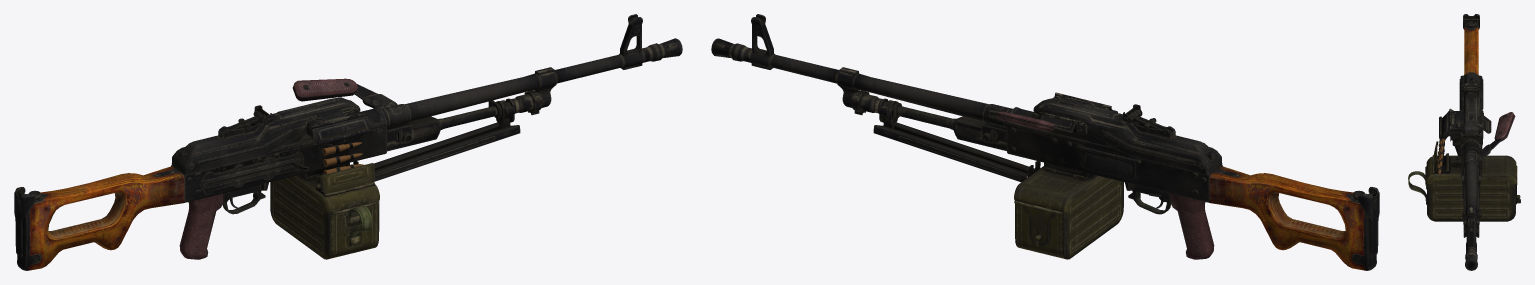
3 views of the same model, side by side, from view 1: azimuth 30°, elevation 25°; view 2: azimuth 150°, elevation 25°; view 3: azimuth 270°, elevation 25° (orthographic). The views are drawn at different scales.
Visible parts, largest first — view 1: PKM; view 2: PKM; view 3: PKM.
Part boxes in pixels (box(x1,y1,x2,y2)): PKM: box(14, 14, 682, 270); PKM: box(711, 14, 1379, 270); PKM: box(1408, 14, 1520, 270).
Bounding box in the file's own units: 38.88 × 8.09 × 7.7.
1 material, 1 textured.
